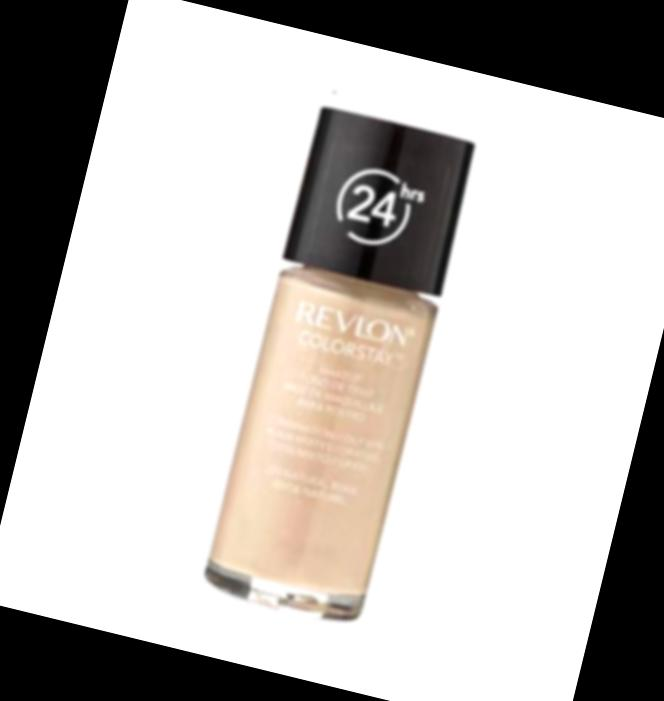cosmetic: (199, 105, 476, 624)
